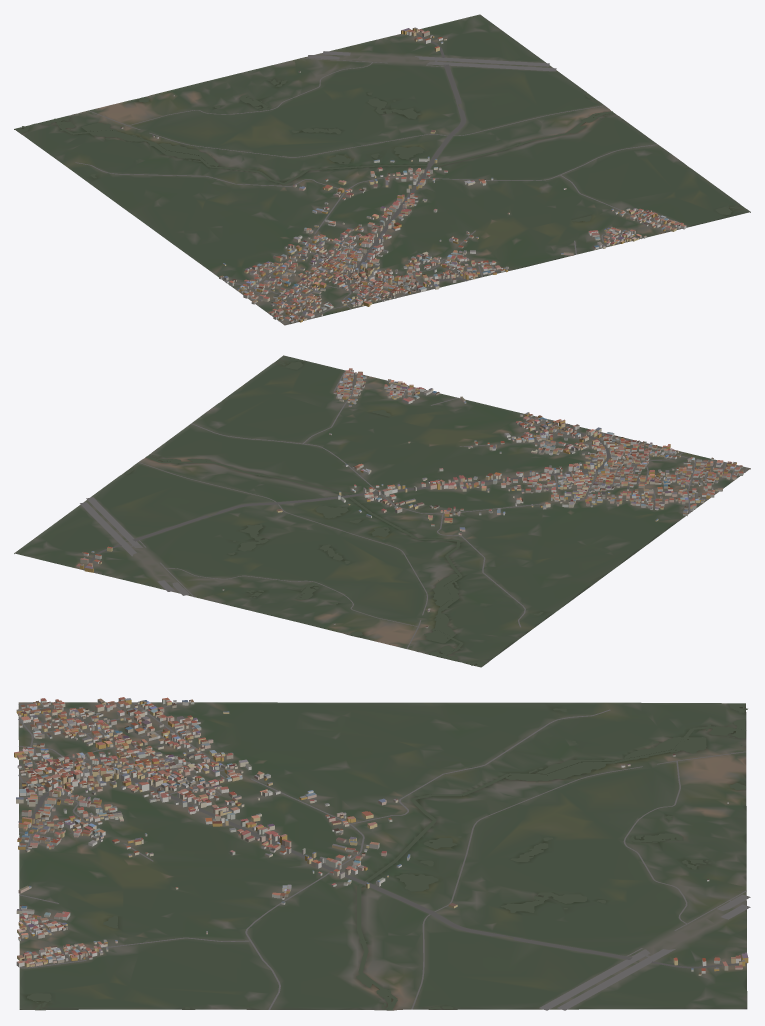
The picture shows the model from 3 angles, top to bottom: view 1: azimuth 30°, elevation 25°; view 2: azimuth 150°, elevation 25°; view 3: azimuth 270°, elevation 25°; orthographic projection. The views are drawn at different scales.
Visible parts, largest first — view 1: ground, buildings, roads, water; view 2: ground, buildings, roads, water; view 3: ground, buildings, roads, water.
Boxes of the visible parts, bbox=[...] form: ground: bbox=[14, 14, 750, 325]; buildings: bbox=[120, 27, 686, 323]; roads: bbox=[75, 33, 686, 324]; water: bbox=[15, 78, 744, 221]; ground: bbox=[14, 355, 750, 667]; buildings: bbox=[76, 368, 743, 628]; roads: bbox=[80, 371, 747, 649]; water: bbox=[123, 359, 543, 666]; ground: bbox=[18, 702, 747, 1010]; buildings: bbox=[14, 697, 748, 975]; roads: bbox=[18, 702, 750, 1010]; water: bbox=[27, 703, 747, 1010].
Size of the model in its own units: 1410 by 22.8 by 1420.
